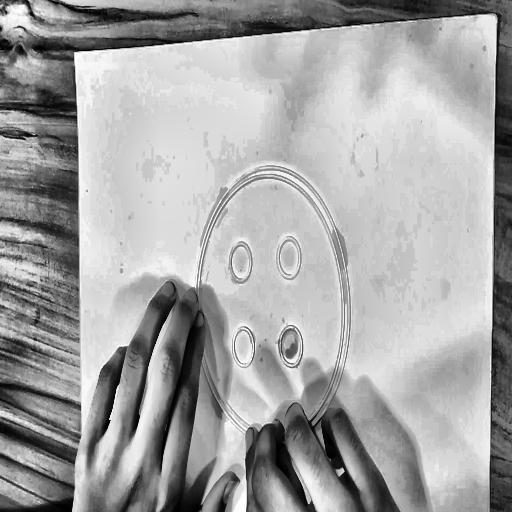button: (190, 156, 357, 452)
top_left: (70, 47, 78, 60)
top_right: (493, 9, 500, 22)
